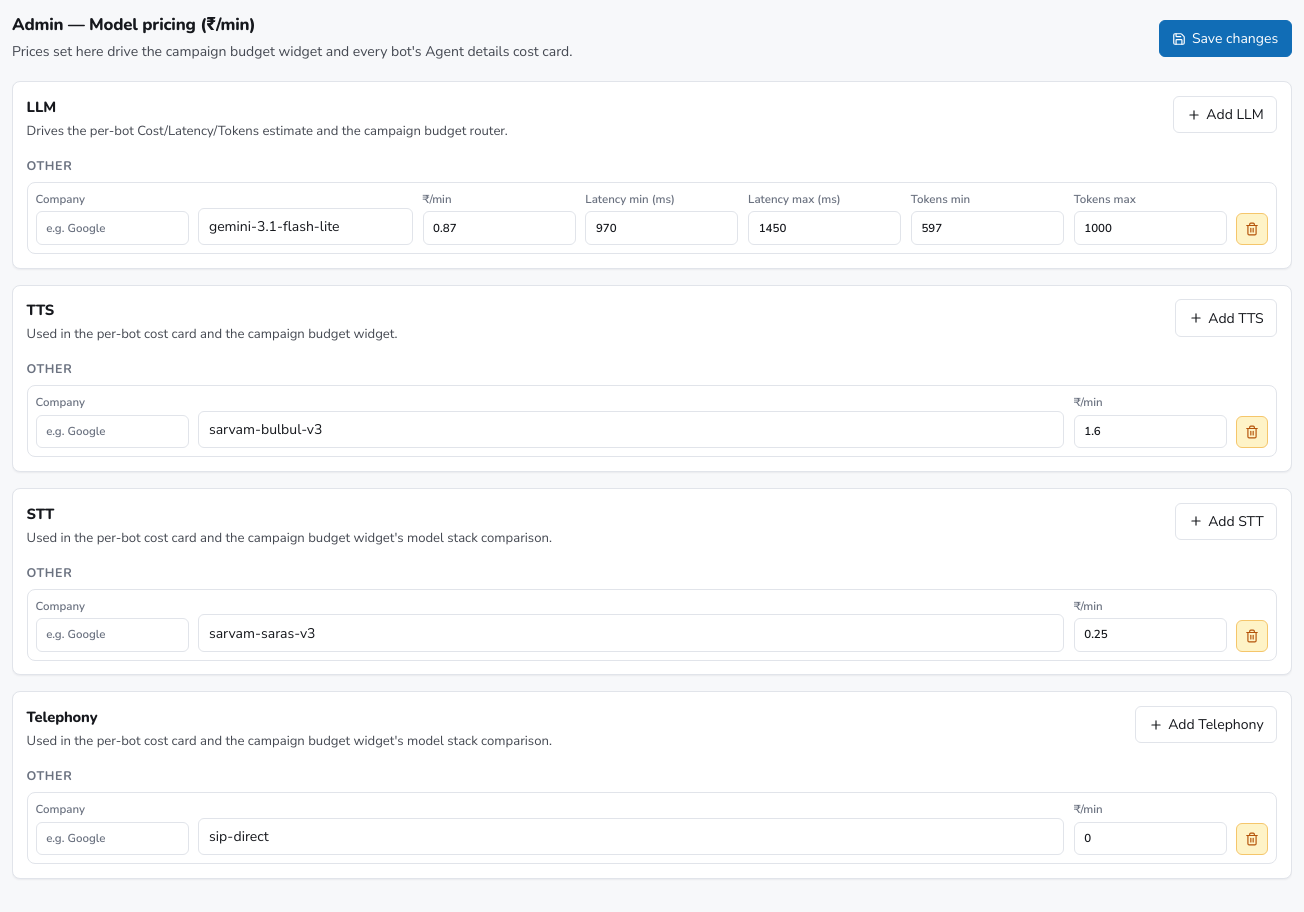
AdminView › shows a failed state and allows retry when save rejects
Click the button "Save changes" at (1225, 39), box [1158,20,1292,57]
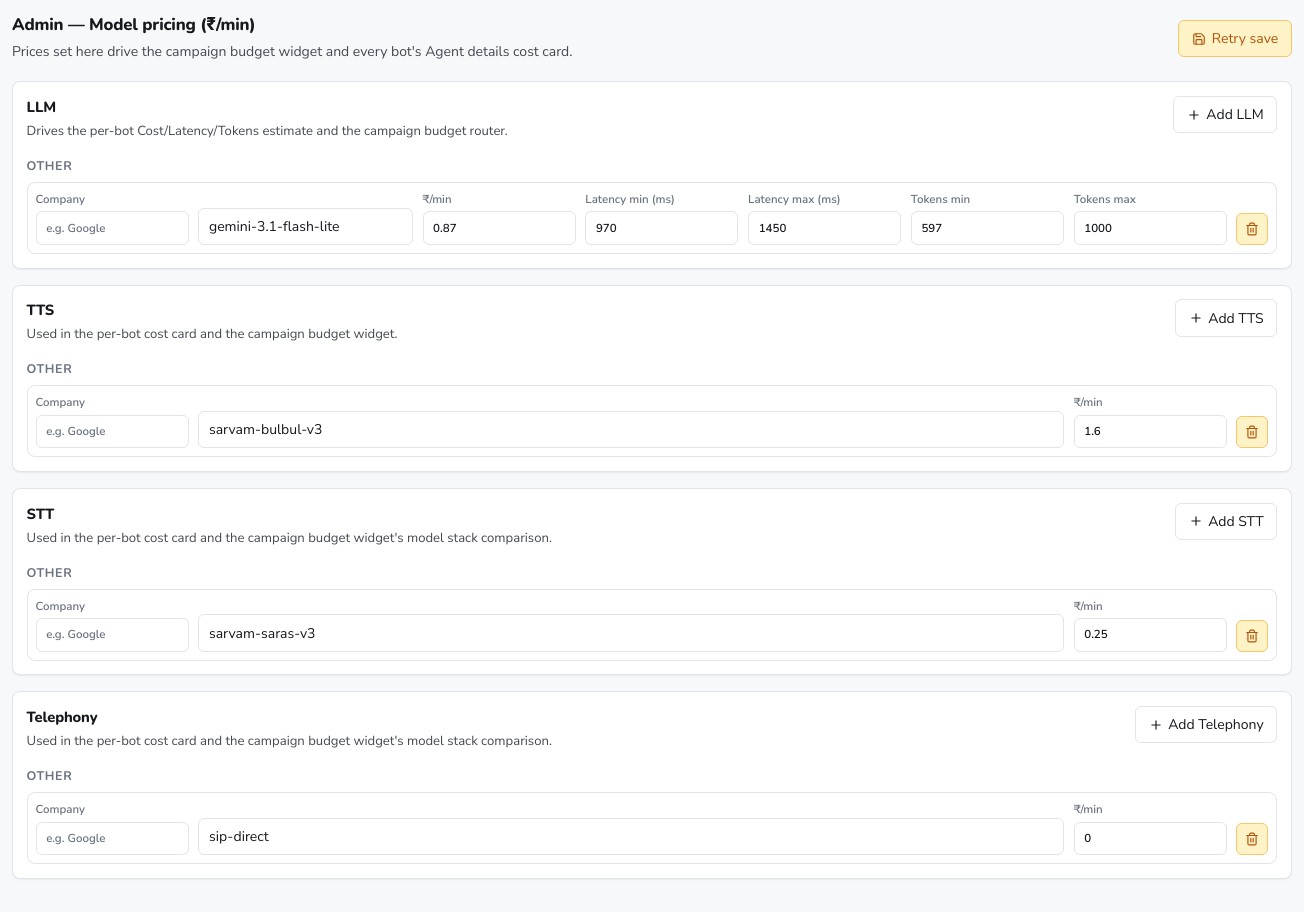
Check: the button "Retry save" is shown, box [1178,20,1292,57]
